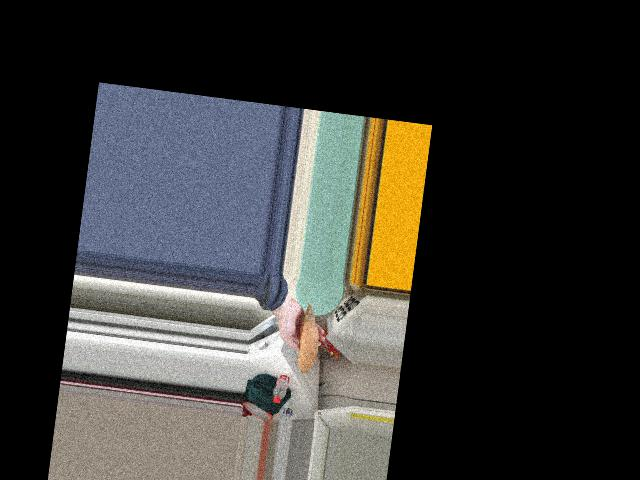sweet_potato: (290, 316, 321, 379)
